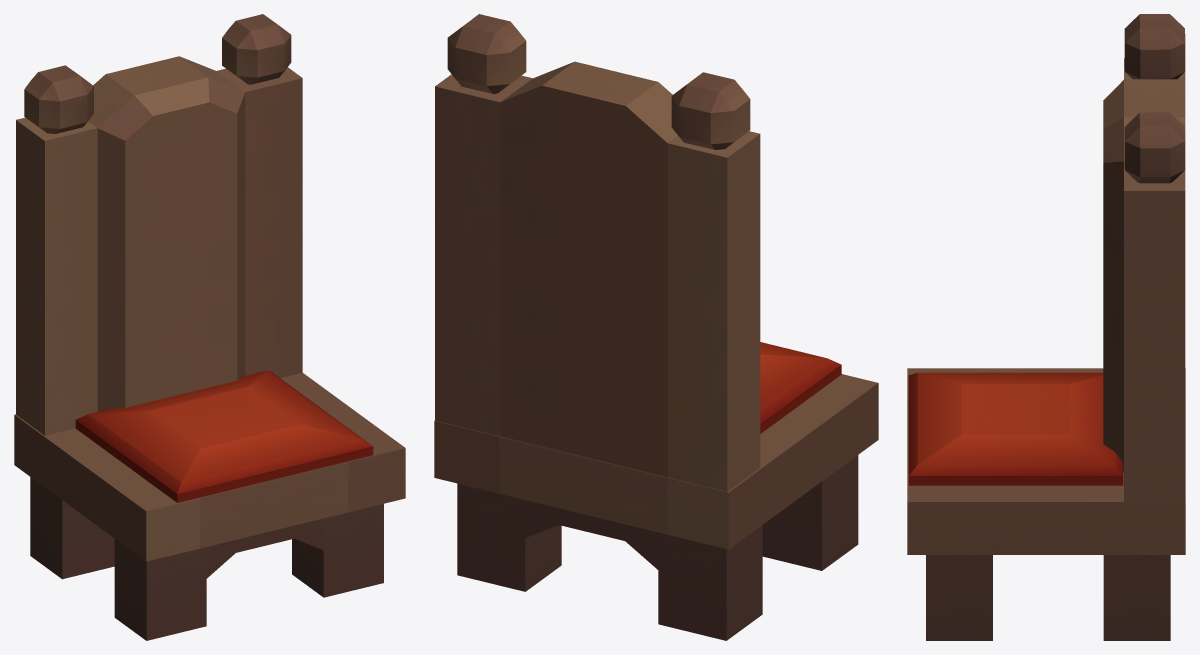
File: chair_cushion.fbx
3 renders of one model, left to right at view 1: azimuth 30°, elevation 25°; view 2: azimuth 150°, elevation 25°; view 3: azimuth 270°, elevation 25°, orthographic. The views are drawn at different scales.
Parts seen in each view (by area): view 1: chair_cushion; view 2: chair_cushion; view 3: chair_cushion.
Part boxes in pixels (box(x1,y1,x2,y2)): chair_cushion: box(14, 14, 405, 640); chair_cushion: box(434, 14, 878, 640); chair_cushion: box(907, 14, 1185, 640).
Size of the model in its own units: 70 by 125 by 61.74.
